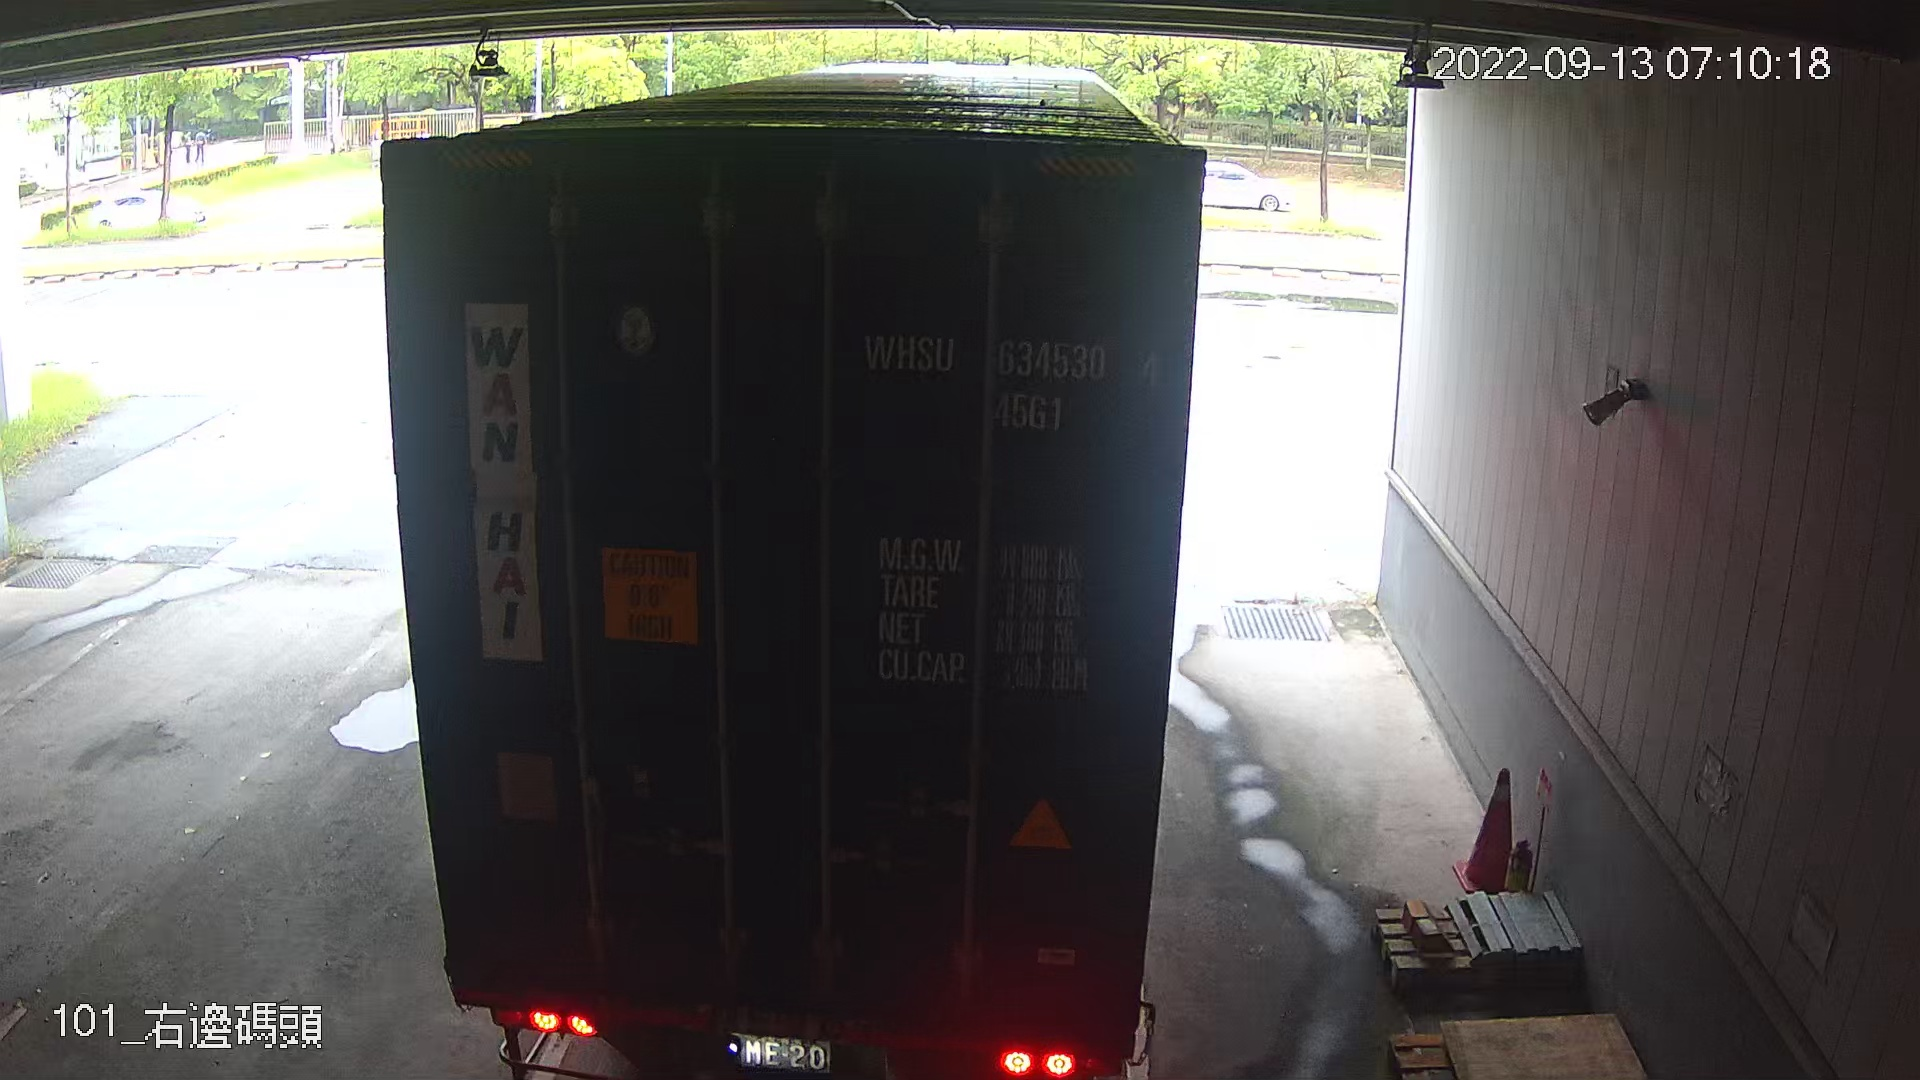container: (851, 314, 1170, 444)
